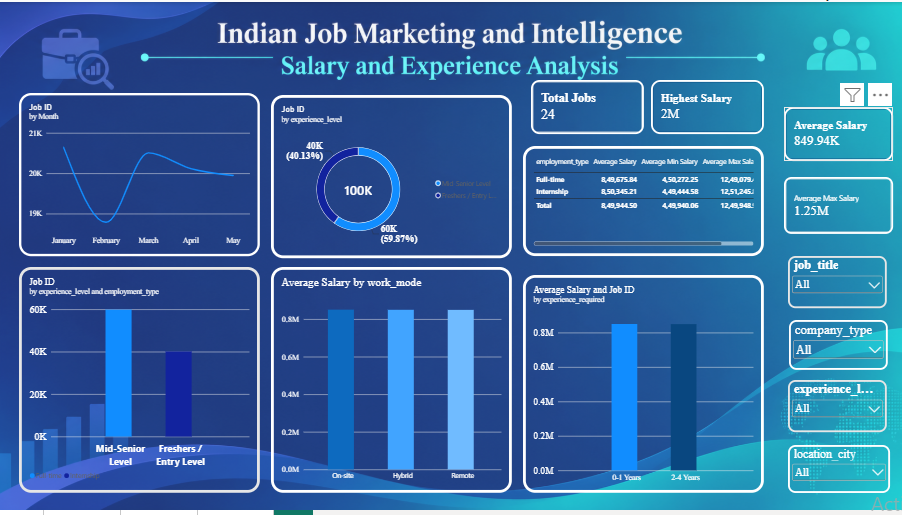

The dashboard page shown, as its layout file describes it:
{"tool":"powerbi","page":{"name":"Page 4","canvas":[1920,1080],"ordinal":1},"visuals":[{"type":"cardVisual","fields":{"Data":["clean_jobs.Highest Salary"]},"box":[1388.3,165.8,240.2,114.8],"z":0},{"type":"clusteredColumnChart","fields":{"Category":["clean_jobs.work_mode"],"Y":["clean_jobs.Average Salary"]},"box":[580.4,563.4,512.4,480.5],"z":1000},{"type":"cardVisual","fields":{"Data":["clean_jobs.Average Salary"]},"box":[1671,223.2,231.7,114.8],"z":2000},{"type":"slicer","fields":{"Values":["clean_jobs.job_title"]},"box":[1679.5,540,210.5,110.6],"z":3000},{"type":"slicer","title":"Experience Level","fields":{"Values":["clean_jobs.experience_level"]},"box":[1679.5,803.6,210.5,110.6],"z":4000},{"type":"slicer","fields":{"Values":["clean_jobs.location_city"]},"box":[1679.5,941.8,216.9,102],"z":5000},{"type":"slicer","fields":{"Values":["clean_jobs.company_type"]},"box":[1681.7,676.1,210.5,106.3],"z":6000},{"type":"columnChart","fields":{"Category":["clean_jobs.experience_level"],"Series":["clean_jobs.employment_type"],"Y":["clean_jobs.Job ID"]},"box":[44.6,563.4,512.4,480.5],"z":7000},{"type":"donutChart","fields":{"Category":["clean_jobs.experience_level"],"Y":["clean_jobs.Job ID"]},"box":[580.4,197.7,512.4,346.5],"z":8000},{"type":"lineChart","fields":{"Category":["clean_jobs.posted_date.Variation.Date Hierarchy.Month"],"Y":["clean_jobs.Job ID"]},"box":[44.6,193.5,512.4,346.5],"z":9000},{"type":"clusteredColumnChart","fields":{"Category":["clean_jobs.experience_required"],"Y":["clean_jobs.Average Salary"]},"box":[1116.1,580.4,512.4,463.5],"z":10000},{"type":"tableEx","fields":{"Values":["clean_jobs.employment_type","clean_jobs.Average Salary","clean_jobs.Average Min Salary","clean_jobs.Average Max Salary","clean_jobs.Job ID"]},"box":[1116.1,306.1,512.4,233.9],"z":11000},{"type":"cardVisual","fields":{"Data":["clean_jobs.Total Jobs"]},"box":[1133.1,165.8,240.2,114.8],"z":12000},{"type":"cardVisual","fields":{"Data":["clean_jobs.Average Max Salary"]},"box":[1671,372,231.7,121.2],"z":13000}]}

Visuals, with their boxes in screenshot pixels (x1, y1, x2, y2), scaled from the page's 1920x1080 canvas onto the 902x515 screenshot:
cardVisual - clean_jobs.Highest Salary: [652, 79, 765, 134]
clusteredColumnChart - clean_jobs.work_mode x clean_jobs.Average Salary: [273, 269, 513, 498]
cardVisual - clean_jobs.Average Salary: [785, 106, 894, 161]
slicer - clean_jobs.job_title: [789, 258, 888, 310]
"Experience Level" slicer: [789, 383, 888, 436]
slicer - clean_jobs.location_city: [789, 449, 891, 498]
slicer - clean_jobs.company_type: [790, 322, 889, 373]
columnChart - clean_jobs.experience_level x clean_jobs.employment_type: [21, 269, 262, 498]
donutChart - clean_jobs.experience_level x clean_jobs.Job ID: [273, 94, 513, 260]
lineChart - clean_jobs.posted_date.Variation.Date Hierarchy.Month x clean_jobs.Job ID: [21, 92, 262, 258]
clusteredColumnChart - clean_jobs.experience_required x clean_jobs.Average Salary: [524, 277, 765, 498]
tableEx - clean_jobs.employment_type x clean_jobs.Average Salary: [524, 146, 765, 258]
cardVisual - clean_jobs.Total Jobs: [532, 79, 645, 134]
cardVisual - clean_jobs.Average Max Salary: [785, 177, 894, 235]
